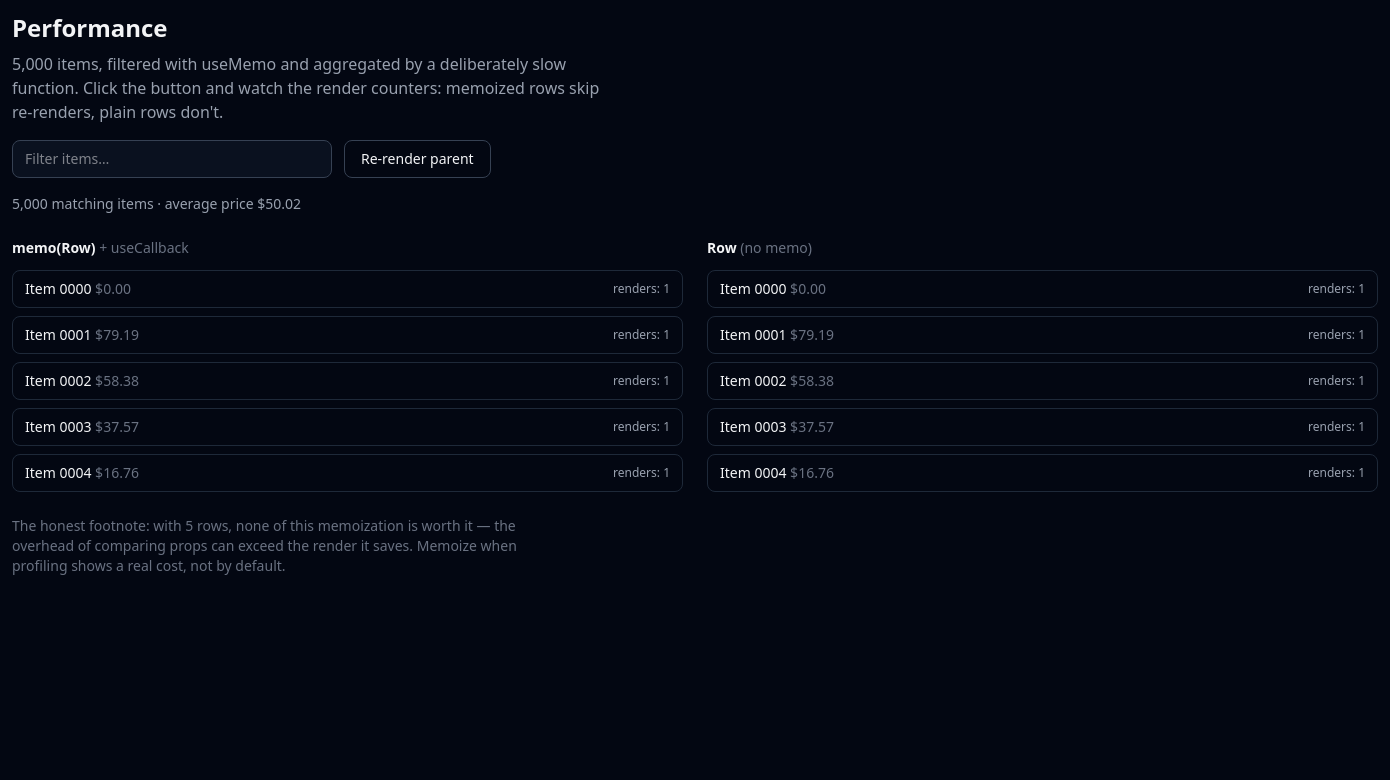
Test: <PerformancePage /> › selecting a row re-renders even memoized rows whose props changed
Click the button "Item 0000 $0.00 renders: 1" below "memo(Row)".
click(58, 288)  # box [12,270,683,308]
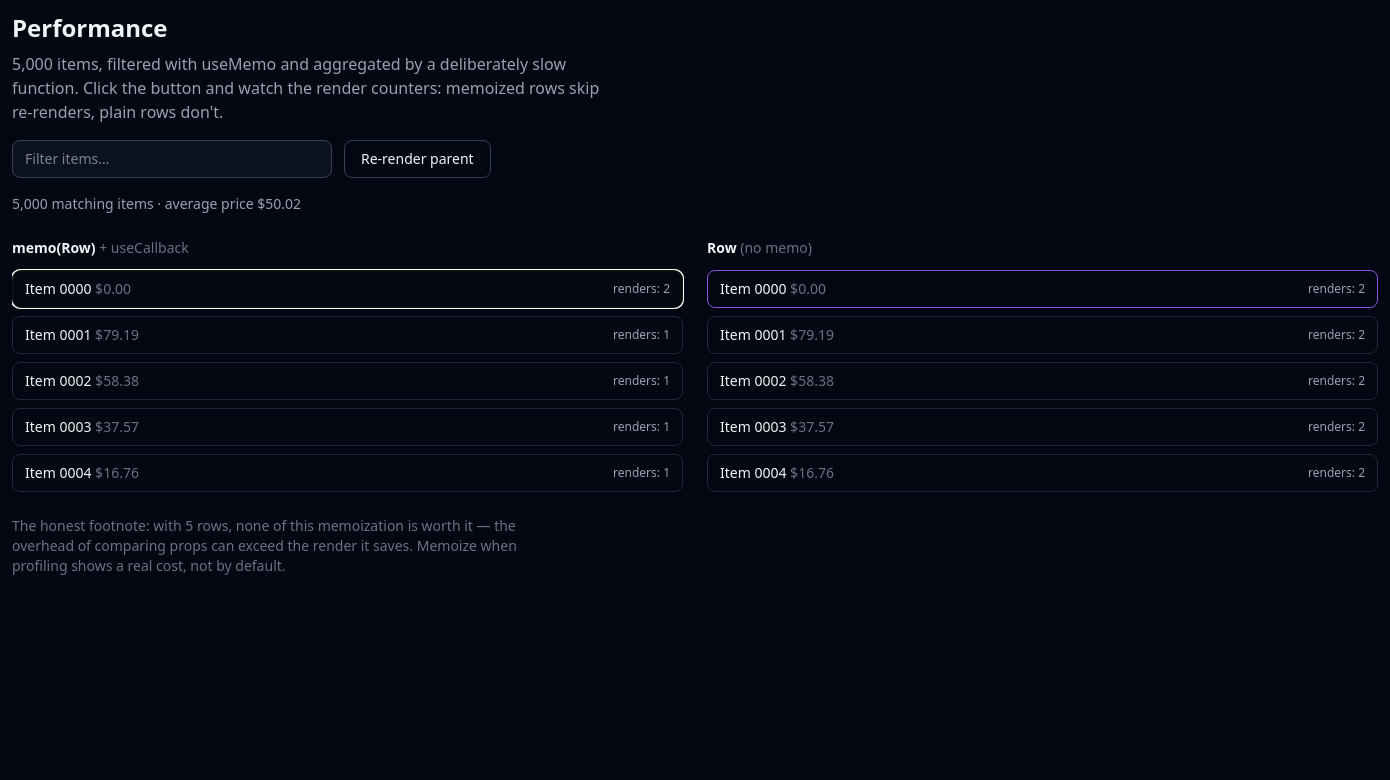
Expected: the list item "Item 0000 $0.00 renders: 2" below "memo(Row)" is shown, [12,270,683,308]
